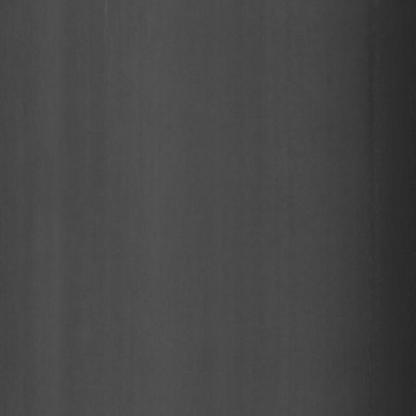silk_spot: (92, 89, 136, 228)
